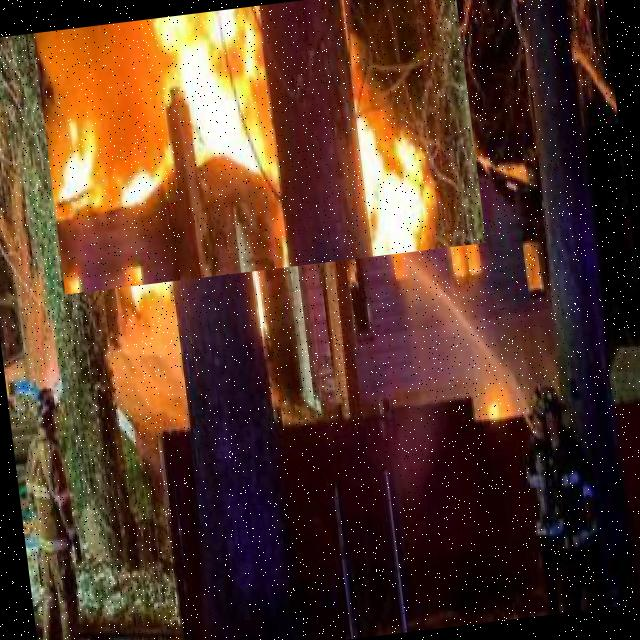fire: (33, 0, 486, 294)
